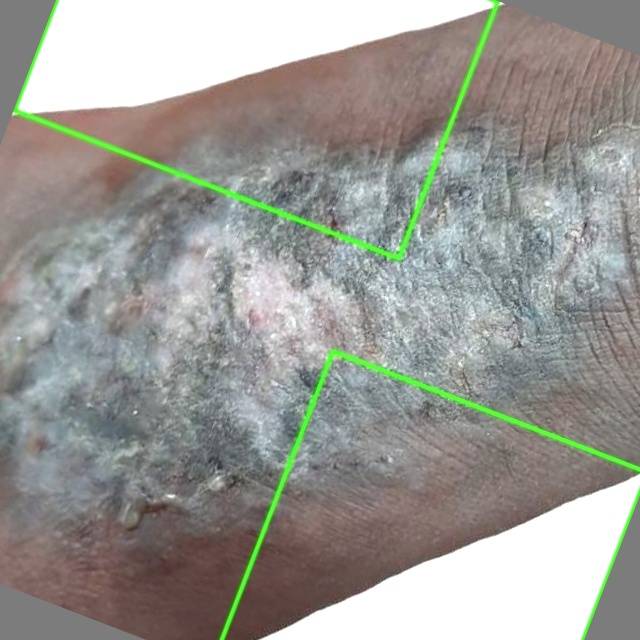Contact Dermatitis: (14, 0, 497, 258), (221, 352, 639, 639)
